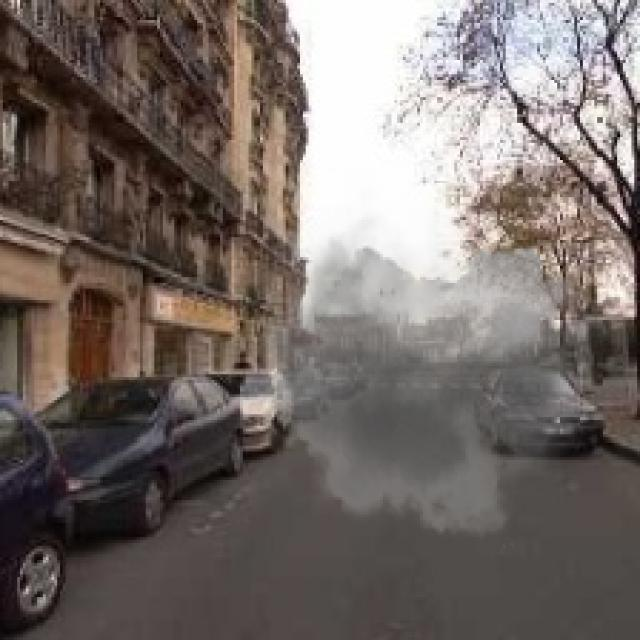Smoke: (240, 168, 597, 554)
